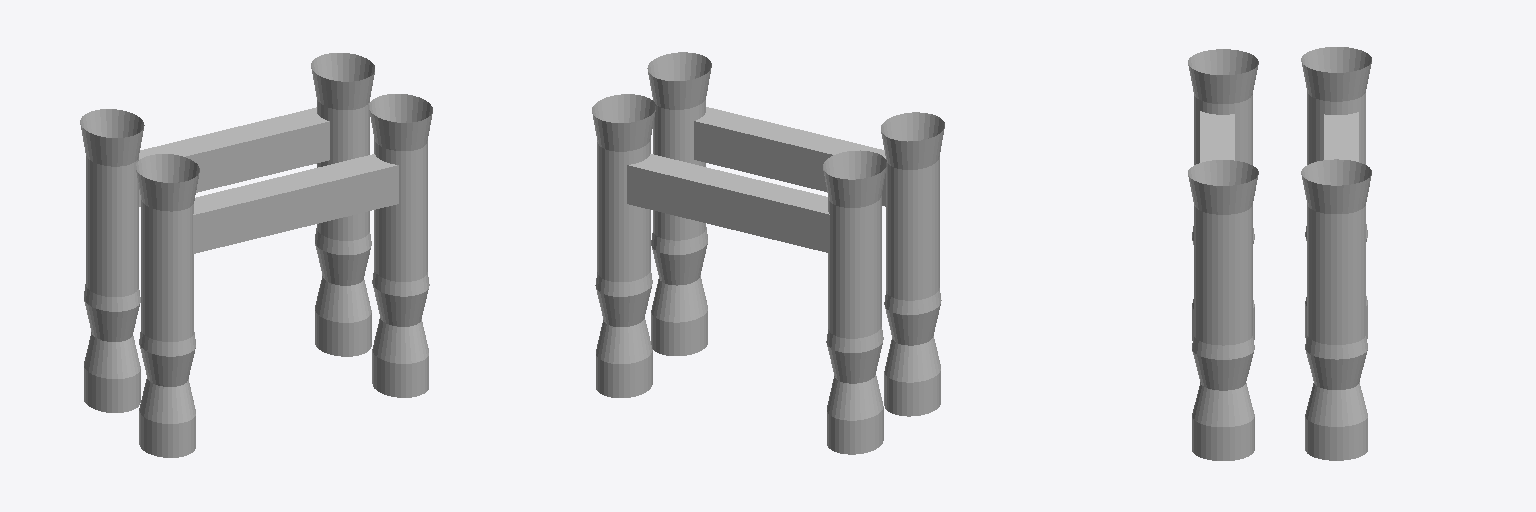
The model's file is Pillars.obj.
3 renders of one model, left to right at view 1: azimuth 30°, elevation 25°; view 2: azimuth 150°, elevation 25°; view 3: azimuth 270°, elevation 25°, orthographic.
Visible parts, largest first — view 1: Cube.001; view 2: Cube.001; view 3: Cube.001.
Boxes of the visible parts, box(x1,y1,x2,y2) form: Cube.001: box(80, 53, 432, 457); Cube.001: box(592, 52, 944, 454); Cube.001: box(1188, 47, 1371, 460).
Size of the model in its own units: 36.29 by 33.81 by 20.2.